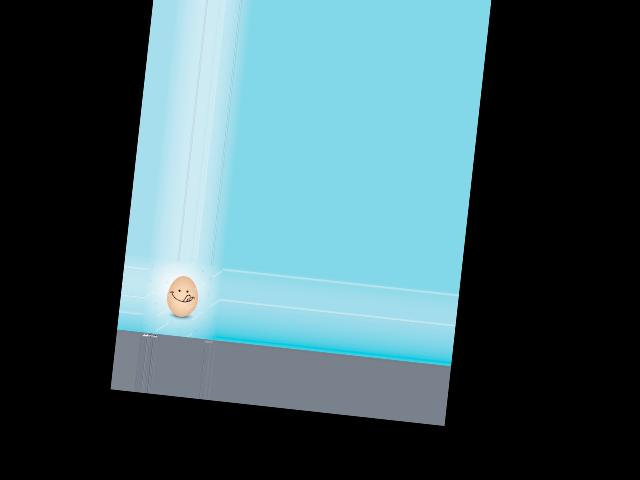egg: (165, 274, 200, 318)
